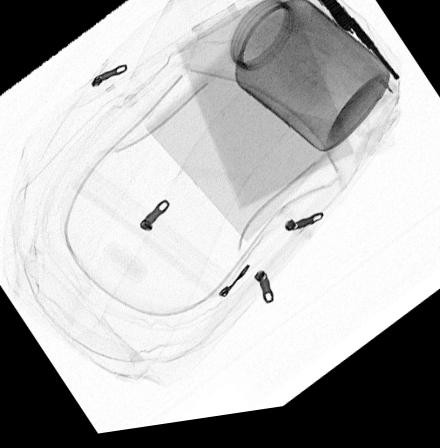Gun: (299, 0, 401, 94)
